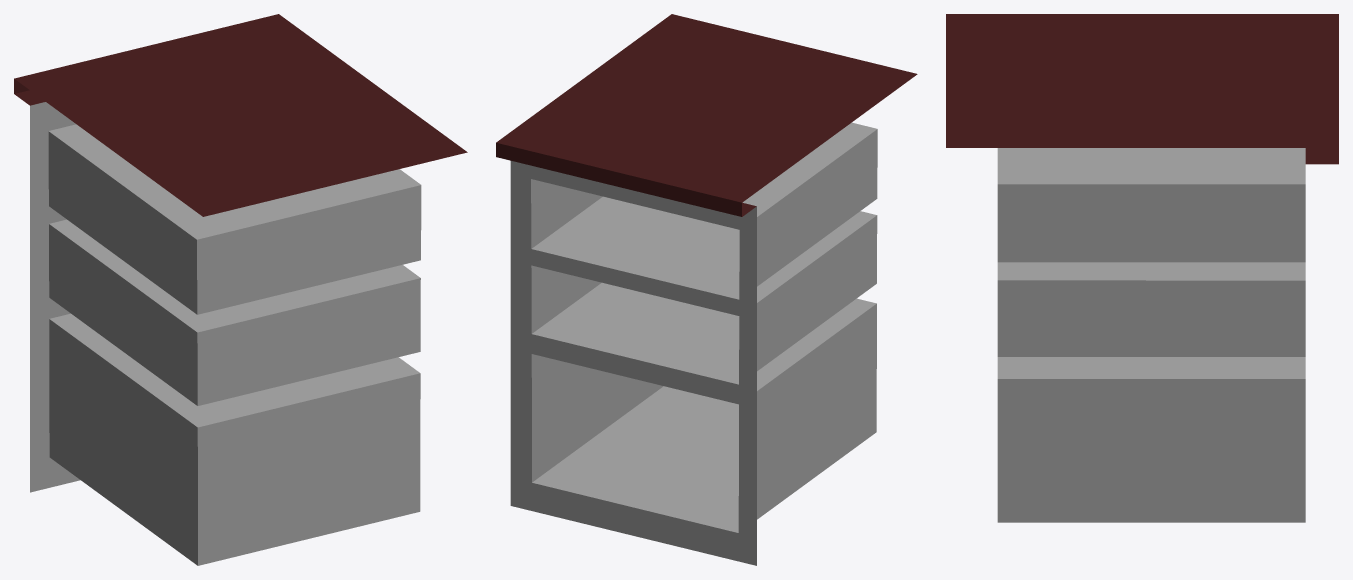
The model's file is 3DrawCabinet.fbx.
The picture shows the model from 3 angles, left to right: view 1: azimuth 30°, elevation 25°; view 2: azimuth 150°, elevation 25°; view 3: azimuth 270°, elevation 25°; orthographic projection. The views are drawn at different scales.
Visible parts, largest first — view 1: polySurface74; view 2: polySurface74; view 3: polySurface74.
Boxes of the visible parts, x1,y1,x2,y2 form: polySurface74: [14, 14, 467, 565]; polySurface74: [496, 14, 917, 565]; polySurface74: [946, 14, 1338, 522].
Size of the model in its own units: 1.5 by 2.18 by 1.86.
